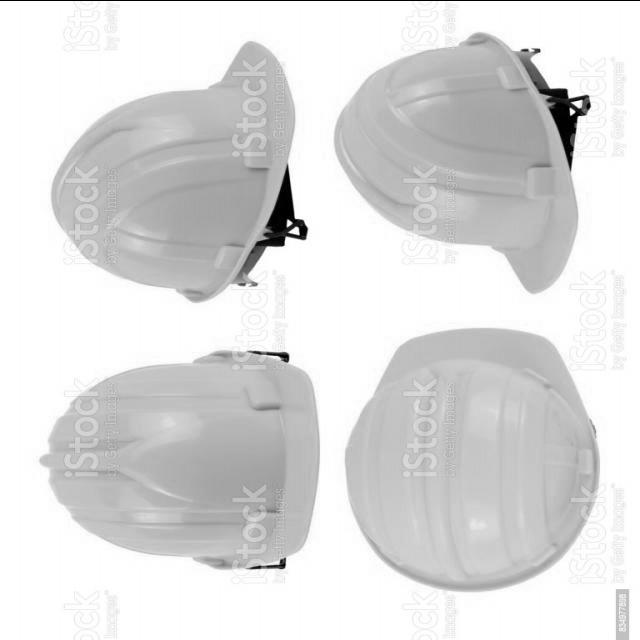construction helmet: (345, 326, 602, 592), (51, 38, 309, 302), (334, 29, 588, 294), (39, 348, 322, 570)
